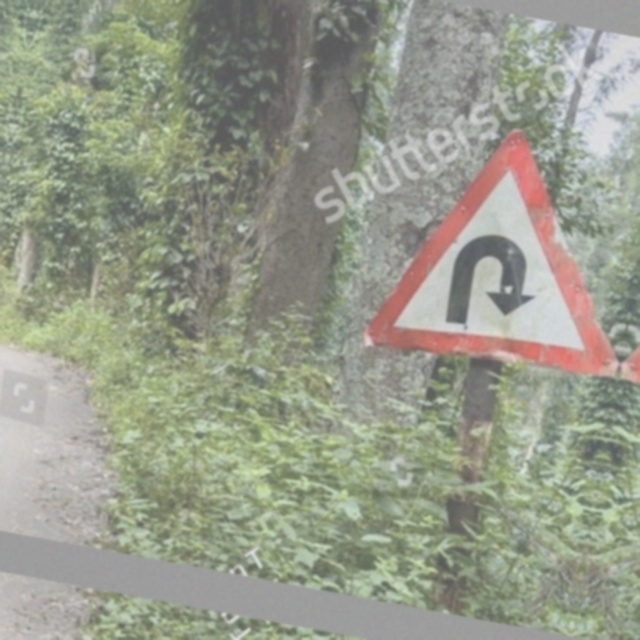Right_Hair_Pin_Bend: (376, 109, 639, 380)
